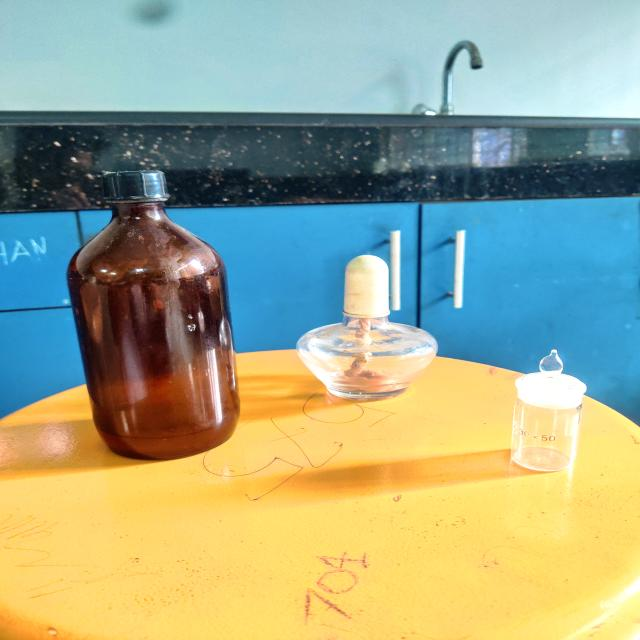Nessler_Reagent_Bottle: (39, 157, 258, 477)
Spirit_Lamp: (286, 245, 450, 416)
Weighing_Bottle: (497, 333, 606, 485)
